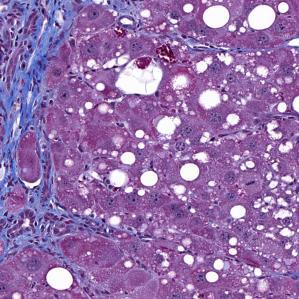fibrosis: (6, 6, 67, 234)
